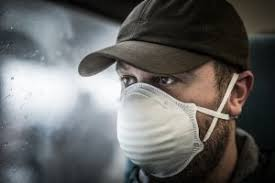with-mask: (103, 42, 257, 177)
